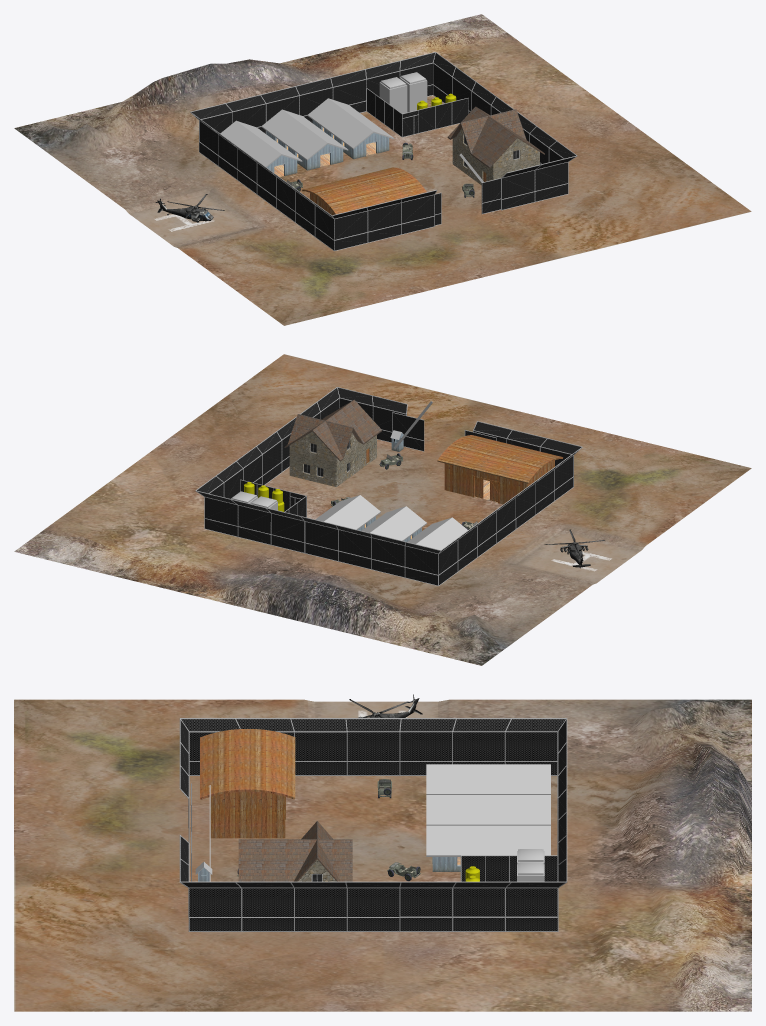
The model's file is stuff.FBX.
3 renders of one model, top to bottom at view 1: azimuth 30°, elevation 25°; view 2: azimuth 150°, elevation 25°; view 3: azimuth 270°, elevation 25°, orthographic. The views are drawn at different scales.
Visible parts, largest first — view 1: Ground, Fence-Wire, Fence-Structure, Barn-roof, House-Roof, Fence-sml-Wire, House, Barracks02-Roof, Barracks03-Roof, Barracks01-Roof, Generator01, Barracks02-Walls (+4 smaller); view 2: Ground, Fence-Wire, Fence-Structure, Barn-roof, House, House-Roof, Barn, Barracks03-Roof, Barracks02-Roof, Barracks01-Roof, Gate-right-wire, Fence-sml-Wire; view 3: Ground, Fence-Wire, Fence-Structure, Barn-roof, House-Roof, Barracks01-Roof, Barracks02-Roof, Barracks03-Roof, Barn, Fence-sml-Wire, Generator02.
Boxes of the visible parts, <box> form: Ground: <box>14,14,751,325</box>; Fence-Wire: <box>191,53,575,250</box>; Fence-Structure: <box>190,52,577,251</box>; Barn-roof: <box>302,167,426,214</box>; House-Roof: <box>447,106,544,168</box>; Fence-sml-Wire: <box>367,89,468,136</box>; House: <box>452,128,539,184</box>; Barracks02-Roof: <box>261,109,348,160</box>; Barracks03-Roof: <box>307,98,394,149</box>; Barracks01-Roof: <box>220,120,302,167</box>; Generator01: <box>379,77,407,113</box>; Barracks02-Walls: <box>266,131,343,170</box>; Ground: <box>14,354,751,665</box>; Fence-Wire: <box>197,387,581,585</box>; Fence-Structure: <box>195,387,582,586</box>; Barn-roof: <box>437,435,562,483</box>; House: <box>289,431,376,486</box>; House-Roof: <box>284,400,381,461</box>; Barn: <box>444,460,554,504</box>; Barracks03-Roof: <box>315,495,380,529</box>; Barracks02-Roof: <box>361,506,426,540</box>; Barracks01-Roof: <box>408,517,467,549</box>; Gate-right-wire: <box>392,413,423,450</box>; Fence-sml-Wire: <box>240,480,306,517</box>; Ground: <box>14,699,751,1011</box>; Fence-Wire: <box>180,719,566,931</box>; Fence-Structure: <box>179,718,567,931</box>; Barn-roof: <box>200,729,295,799</box>; House-Roof: <box>238,821,352,881</box>; Barracks01-Roof: <box>426,764,550,794</box>; Barracks02-Roof: <box>426,795,550,825</box>; Barracks03-Roof: <box>426,825,550,856</box>; Barn: <box>210,791,285,838</box>; Fence-sml-Wire: <box>461,856,557,881</box>; Generator02: <box>517,862,544,881</box>.
Size of the model in its own units: 3150 by 391 by 3150.
